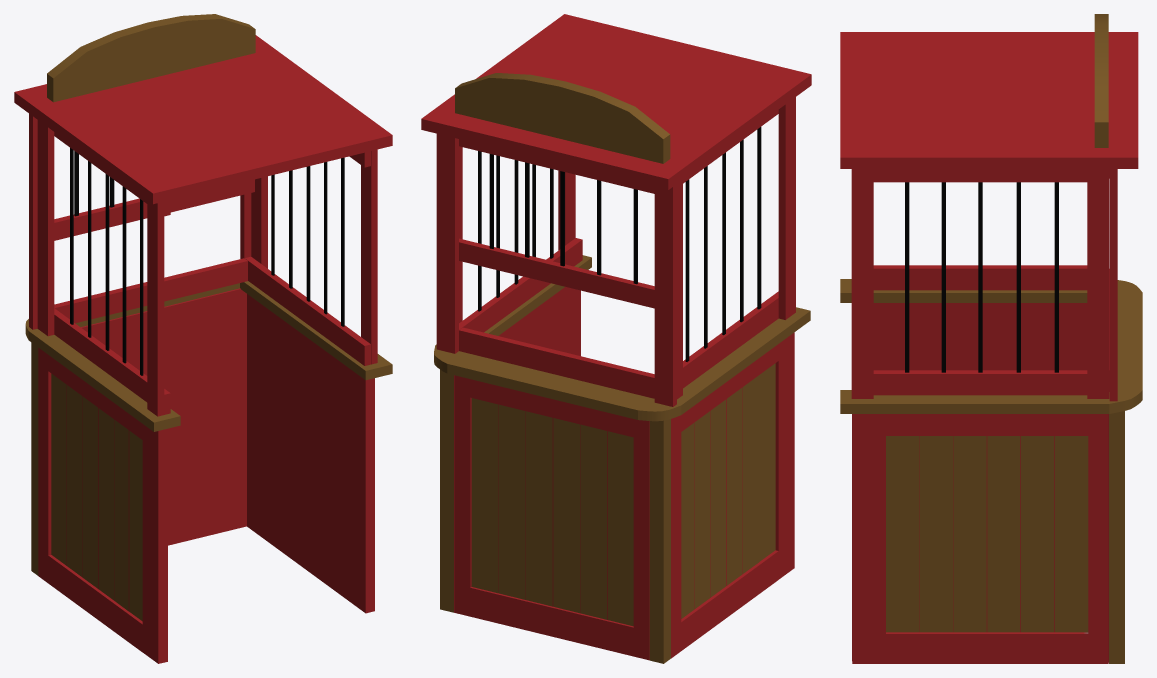
Rendered from SM_Ticket_Booth.fbx.
3 renders of one model, left to right at view 1: azimuth 30°, elevation 25°; view 2: azimuth 150°, elevation 25°; view 3: azimuth 270°, elevation 25°, orthographic. The views are drawn at different scales.
Parts seen in each view (by area): view 1: SM_Ticket_Booth; view 2: SM_Ticket_Booth; view 3: SM_Ticket_Booth.
Part boxes in pixels (box(x1,y1,x2,y2)): SM_Ticket_Booth: box(14, 14, 392, 663); SM_Ticket_Booth: box(421, 14, 811, 663); SM_Ticket_Booth: box(840, 14, 1142, 663).
Bounding box in the file's own units: 106 × 224 × 108.
